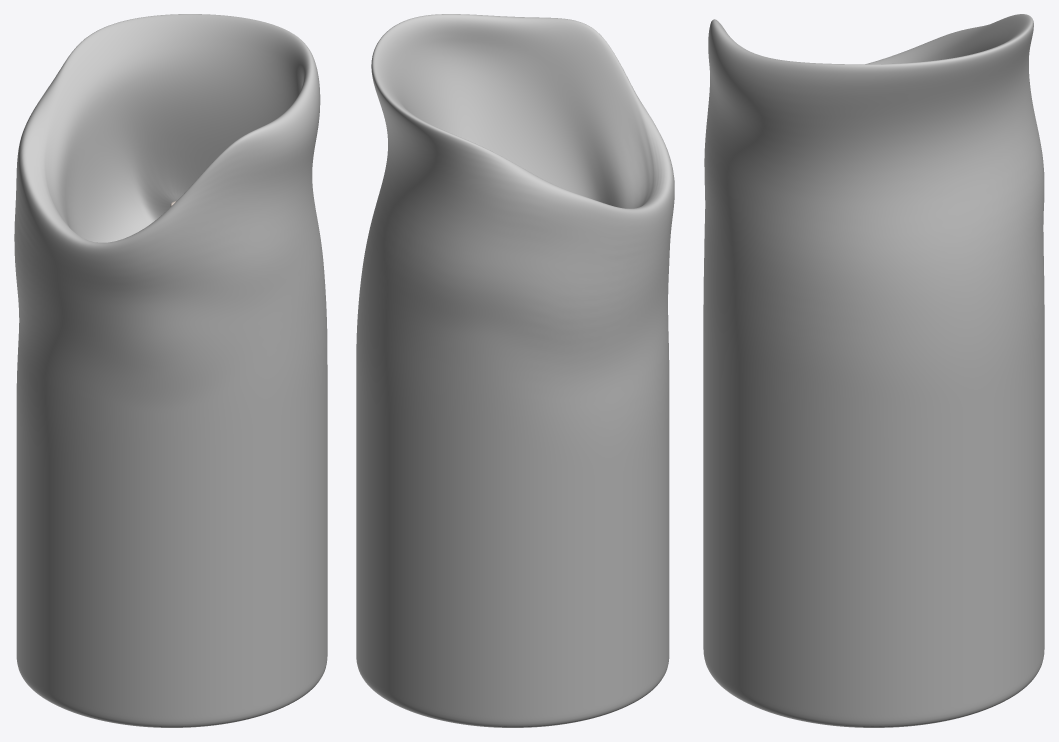
The model's file is candle3.fbx.
3 renders of one model, left to right at view 1: azimuth 30°, elevation 25°; view 2: azimuth 150°, elevation 25°; view 3: azimuth 270°, elevation 25°, orthographic. The views are drawn at different scales.
Parts seen in each view (by area): view 1: Cylinder.001; view 2: Cylinder.001; view 3: Cylinder.001.
Boxes of the visible parts, left/top/right/bottom form: Cylinder.001: left=14, top=14, right=327, bottom=727; Cylinder.001: left=356, top=14, right=674, bottom=727; Cylinder.001: left=703, top=14, right=1044, bottom=727.
Size of the model in its own units: 9.72 by 20.72 by 9.72.
